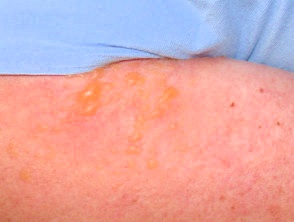SJS-TEN: (0, 44, 218, 222)
